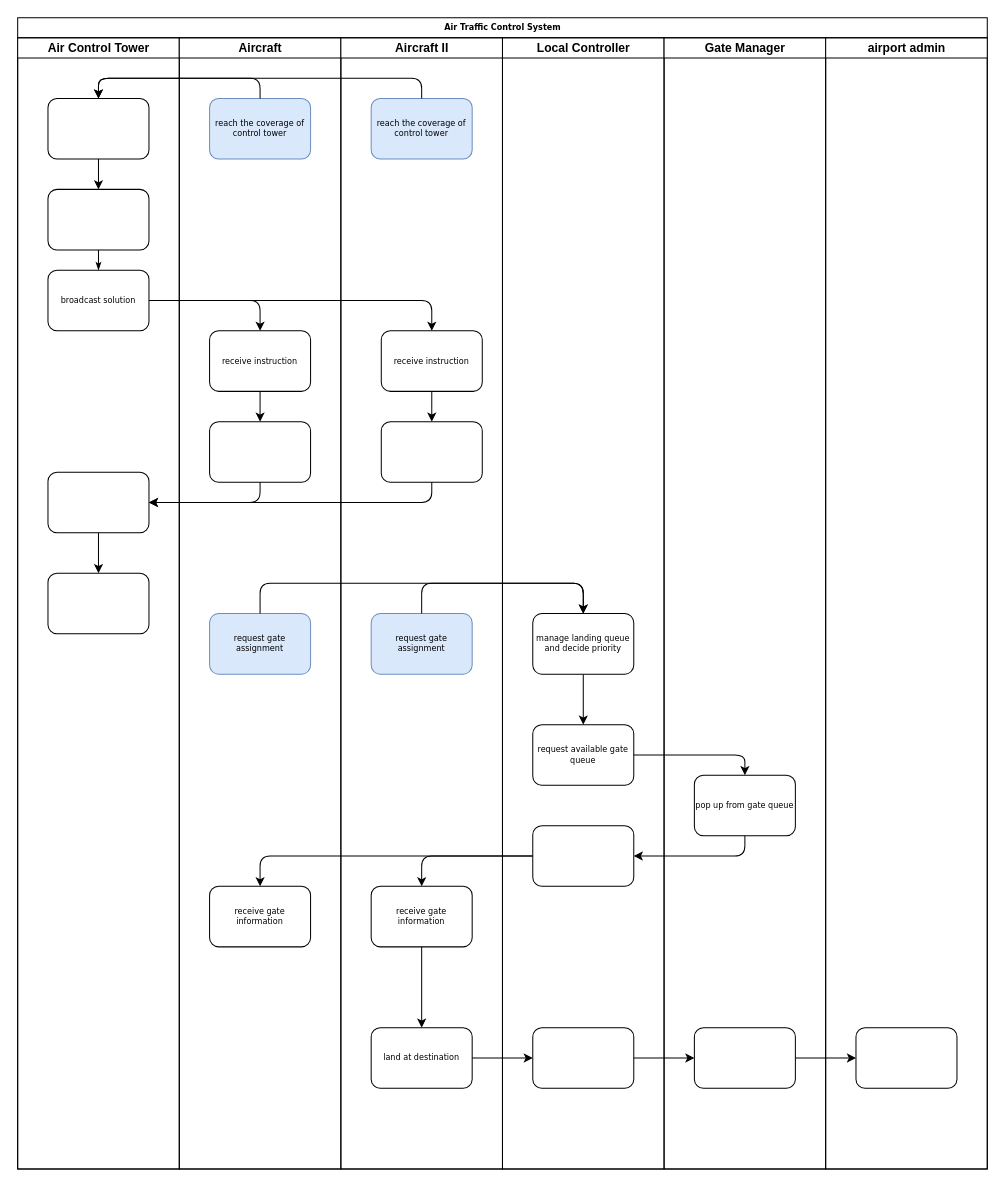
The diagram is 1005 pixels wide and 1187 high, and some of its shapes have lost their labels. The shapes that lost their labels are listed below. From the top down, each one's centre as x and y in pixels, then its label:
At (x=98, y=128): "take in aircraft information".
At (x=98, y=219): "detect conflicts and decide solution".
At (x=260, y=451): "adjust to new stragety".
At (x=431, y=451): "adjust to new strategy".
At (x=98, y=502): "update aircraft information".
At (x=98, y=603): "keep maintain the priority list".
At (x=583, y=855): "inform airplane".
At (x=583, y=1057): "update landing queue".
At (x=744, y=1057): "update gate queue".
At (x=906, y=1057): "send airport broadcast and arrange gate clearance".
